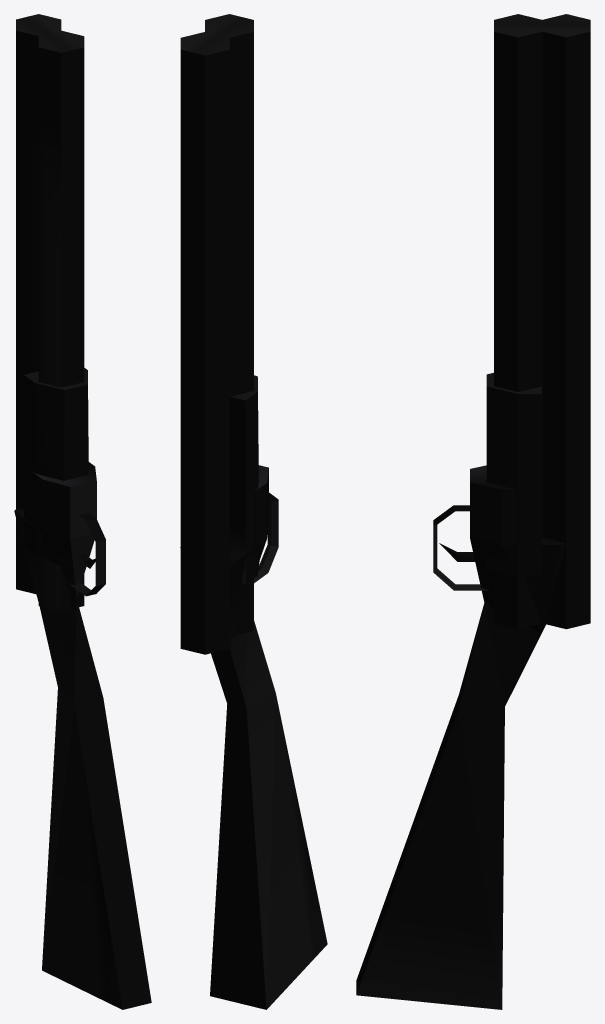
File: Marlin1895GG.fbx
3 views of the same model, side by side, from view 1: azimuth 30°, elevation 25°; view 2: azimuth 150°, elevation 25°; view 3: azimuth 270°, elevation 25° (orthographic). The views are drawn at different scales.
Parts seen in each view (by area): view 1: asset_Marlin1895GG.001; view 2: asset_Marlin1895GG.001; view 3: asset_Marlin1895GG.001.
Part boxes in pixels (<box>): asset_Marlin1895GG.001: <box>14,14,151,1009</box>; asset_Marlin1895GG.001: <box>180,14,327,1009</box>; asset_Marlin1895GG.001: <box>356,14,590,1009</box>.
Bounding box in the file's own units: 0.0348 × 0.57 × 0.1246.
